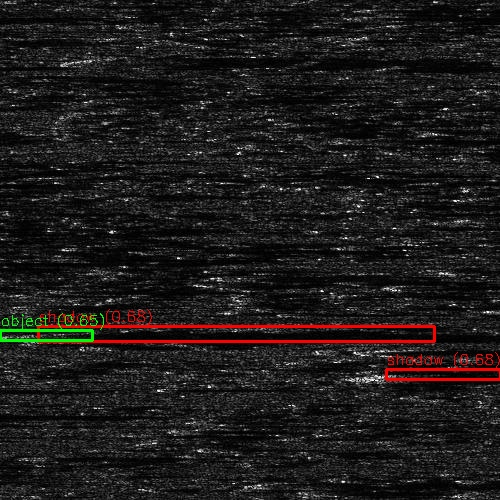rock: (250, 130, 459, 149), (334, 345, 439, 356), (214, 268, 277, 281), (52, 55, 125, 66), (323, 12, 396, 19), (3, 331, 66, 338), (19, 453, 60, 460), (307, 487, 348, 494), (377, 372, 418, 375), (279, 481, 300, 486)
shadow: (246, 268, 463, 281), (35, 331, 431, 338), (355, 130, 500, 149), (89, 55, 214, 66), (387, 345, 500, 356), (40, 453, 196, 460), (360, 12, 500, 19), (328, 487, 457, 494), (290, 481, 459, 486), (0, 410, 117, 417), (0, 178, 76, 187), (0, 10, 50, 21), (0, 412, 100, 417), (0, 38, 89, 43), (0, 385, 74, 390), (398, 372, 500, 375), (0, 190, 9, 195)
